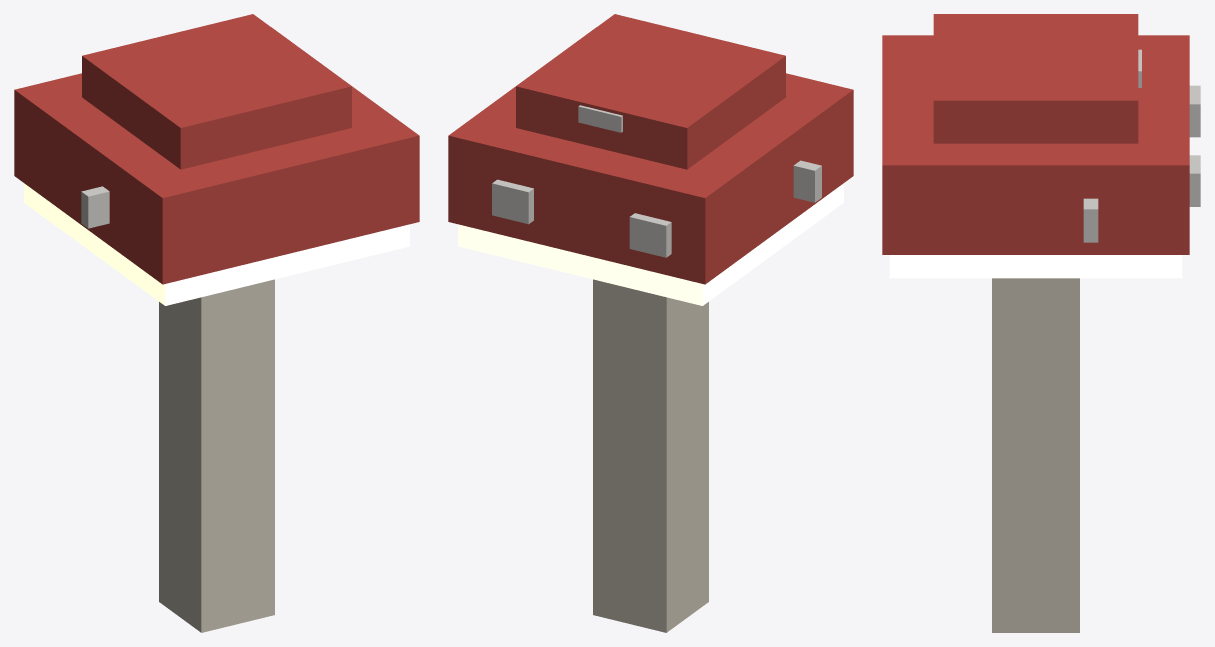
Rendered from ncb-lamp-mushroom.glb.
3 views of the same model, side by side, from view 1: azimuth 30°, elevation 25°; view 2: azimuth 150°, elevation 25°; view 3: azimuth 270°, elevation 25° (orthographic). The views are drawn at different scales.
Visible parts, largest first — view 1: box-prop; view 2: box-prop; view 3: box-prop.
Part boxes in pixels (x1,y1,x2,y2): box-prop: [14, 14, 419, 632]; box-prop: [448, 14, 853, 632]; box-prop: [882, 14, 1200, 632].
Size of the model in its own units: 0.98 by 1.68 by 0.87.
